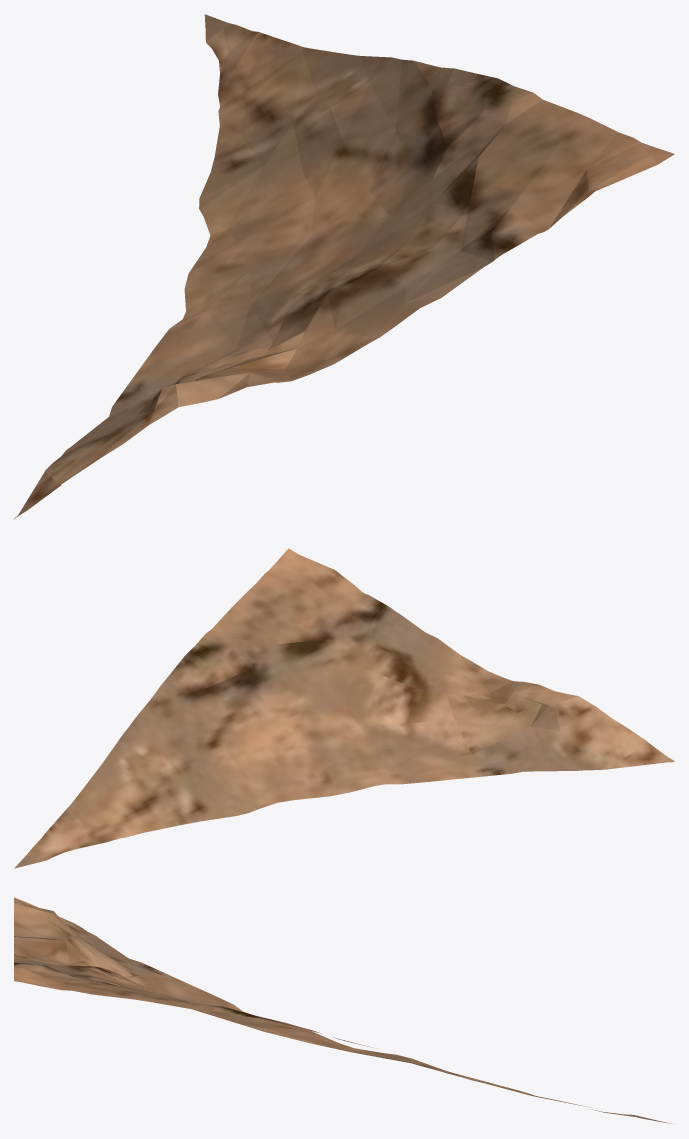
The picture shows the model from 3 angles, top to bottom: view 1: azimuth 30°, elevation 25°; view 2: azimuth 150°, elevation 25°; view 3: azimuth 270°, elevation 25°; orthographic projection. The views are drawn at different scales.
Bounding box in the file's own units: 1.51 × 0.4465 × 1.86.
Materials: 1 (1 with a texture image).
